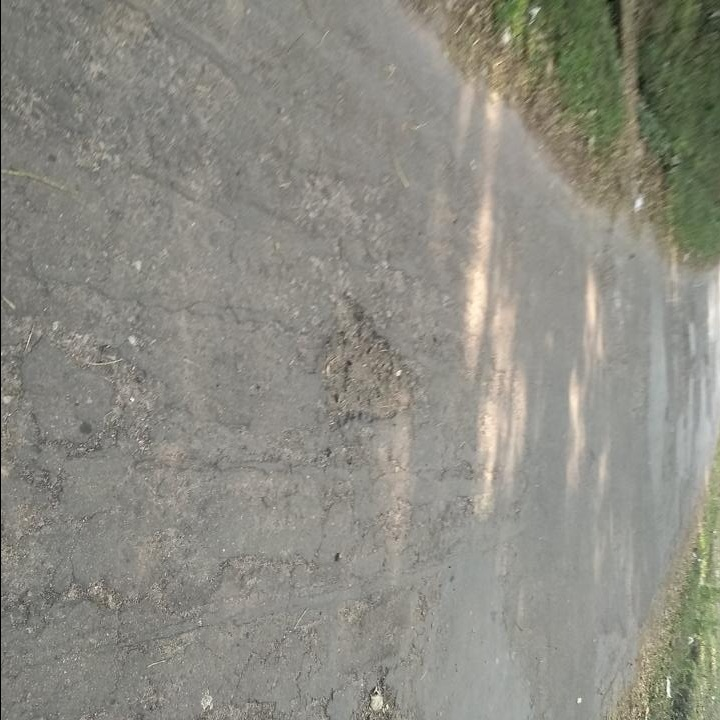pothole: (310, 286, 425, 433), (352, 660, 401, 719)
